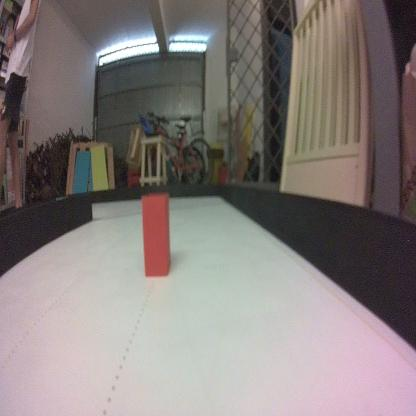red: (140, 192, 171, 278)
